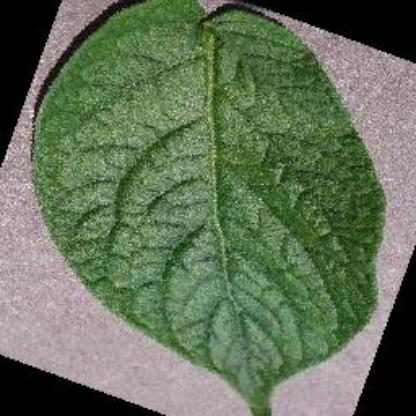Healthy-plant: (30, 3, 393, 415)
